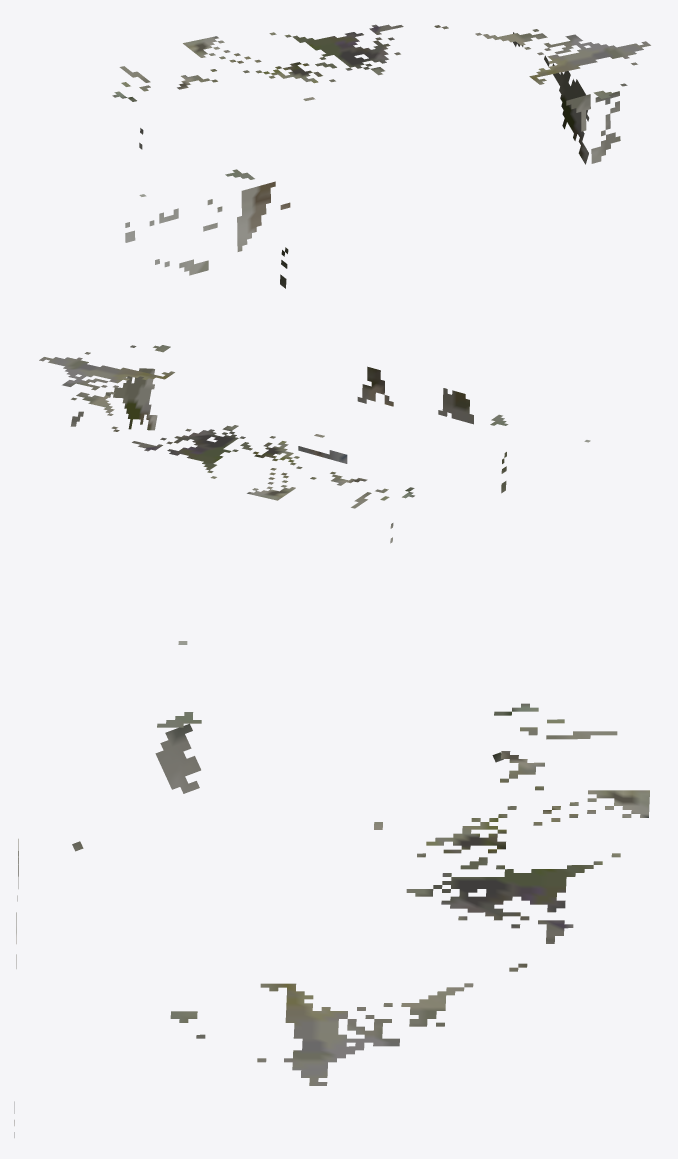
The model's file is INFERRED-planar-only.glb.
3 views of the same model, one above another, from view 1: azimuth 30°, elevation 25°; view 2: azimuth 150°, elevation 25°; view 3: azimuth 270°, elevation 25° (orthographic). The views are drawn at different scales.
Visible parts, largest first — view 1: world; view 2: world; view 3: world.
Boxes of the visible parts, x1,y1,x2,y2 form: world: (112,24,650,288); world: (39,345,590,543); world: (14,641,649,1137).
Bounding box in the file's own units: 9.14 × 2.02 × 5.14.
